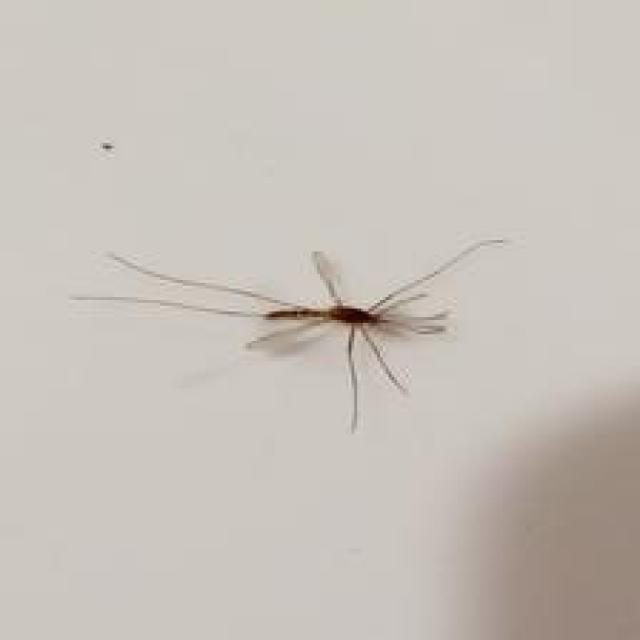Culex: (69, 236, 508, 433)
